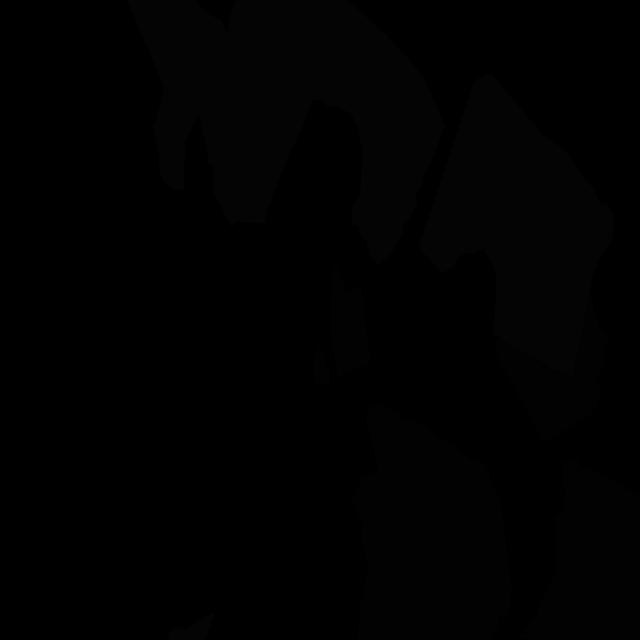cardboard: (348, 403, 512, 640), (517, 457, 640, 640), (495, 295, 608, 440), (330, 265, 371, 377), (313, 345, 330, 386)
soft_plastic: (127, 0, 445, 265), (418, 73, 614, 377), (168, 612, 215, 640)
